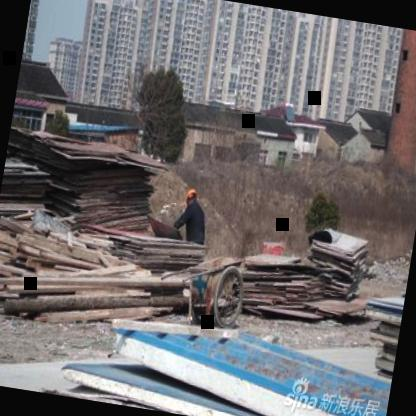helmet: (184, 185, 199, 209)
